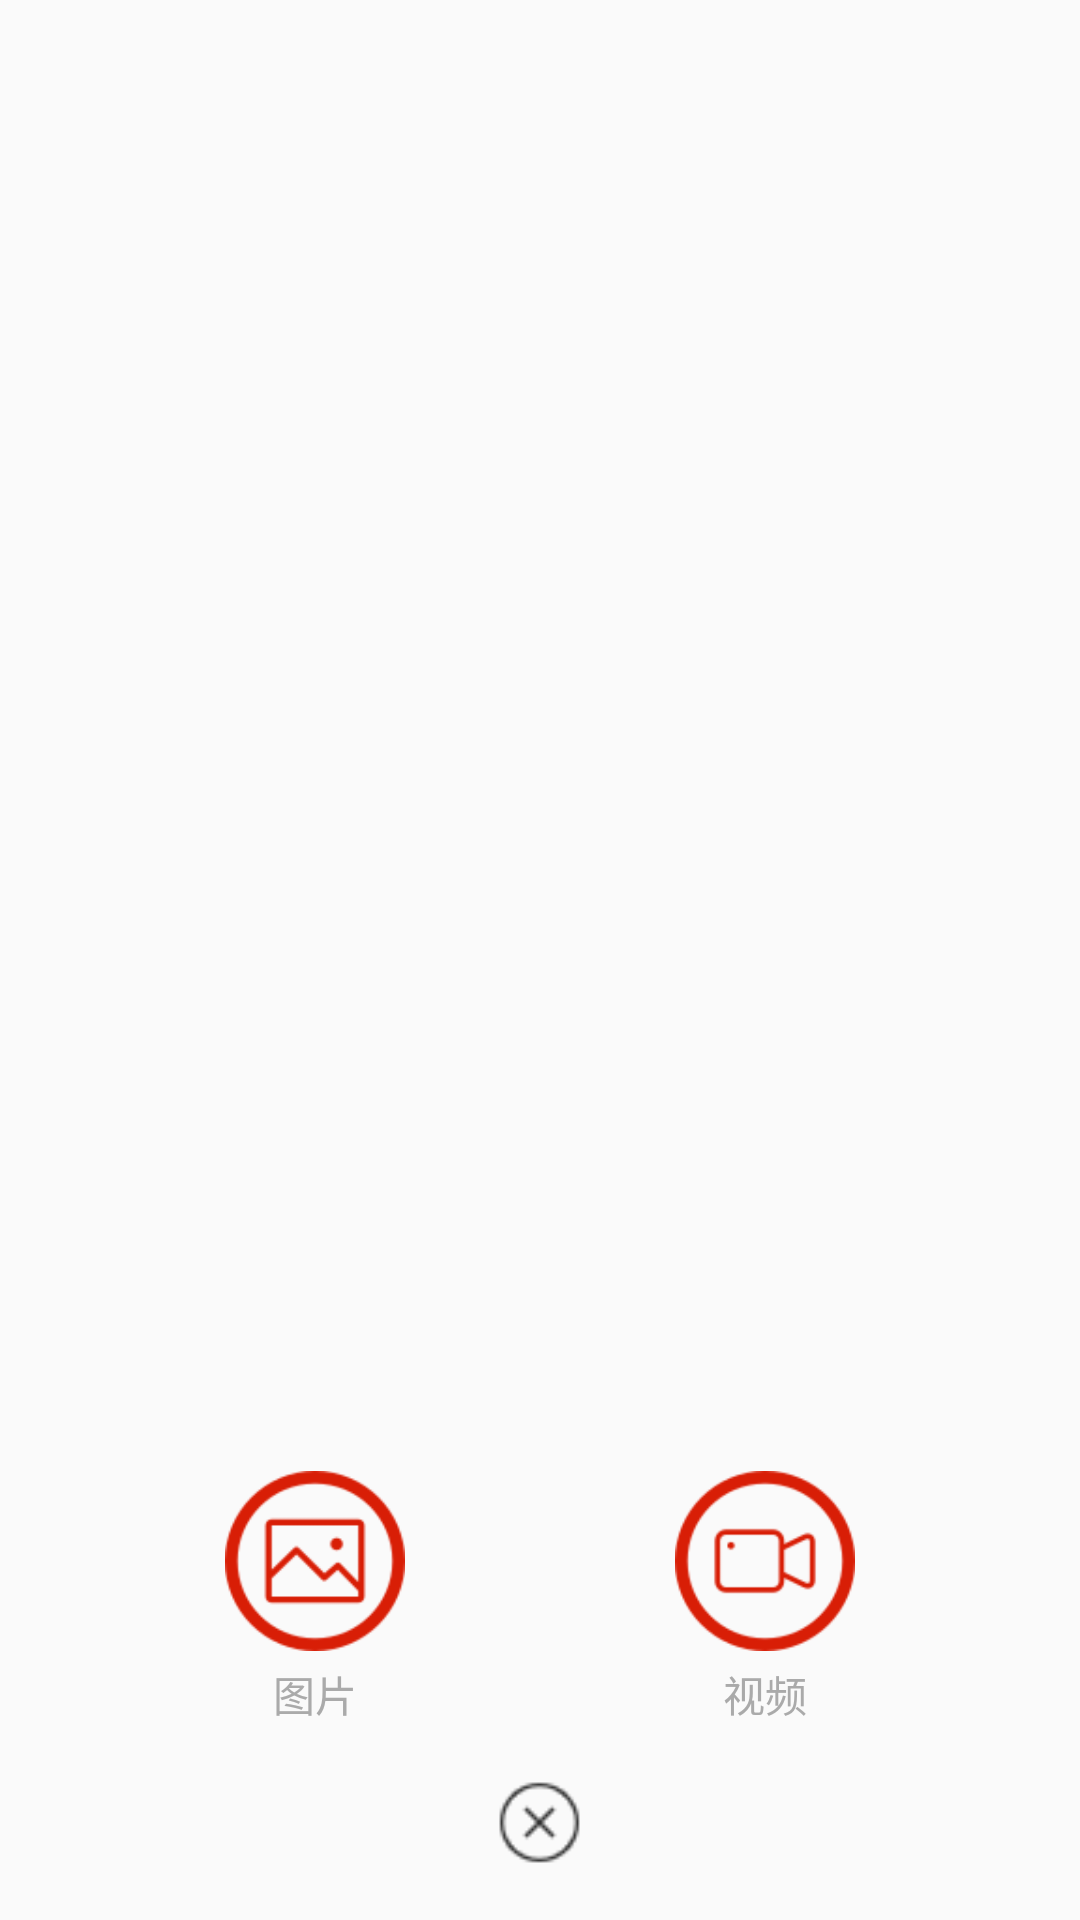

Locate icon controls on the screen. Image size 1080px x 1920px, boxes as (x1, y1, x2, y2).
post cancel: (499, 1782, 580, 1863)
